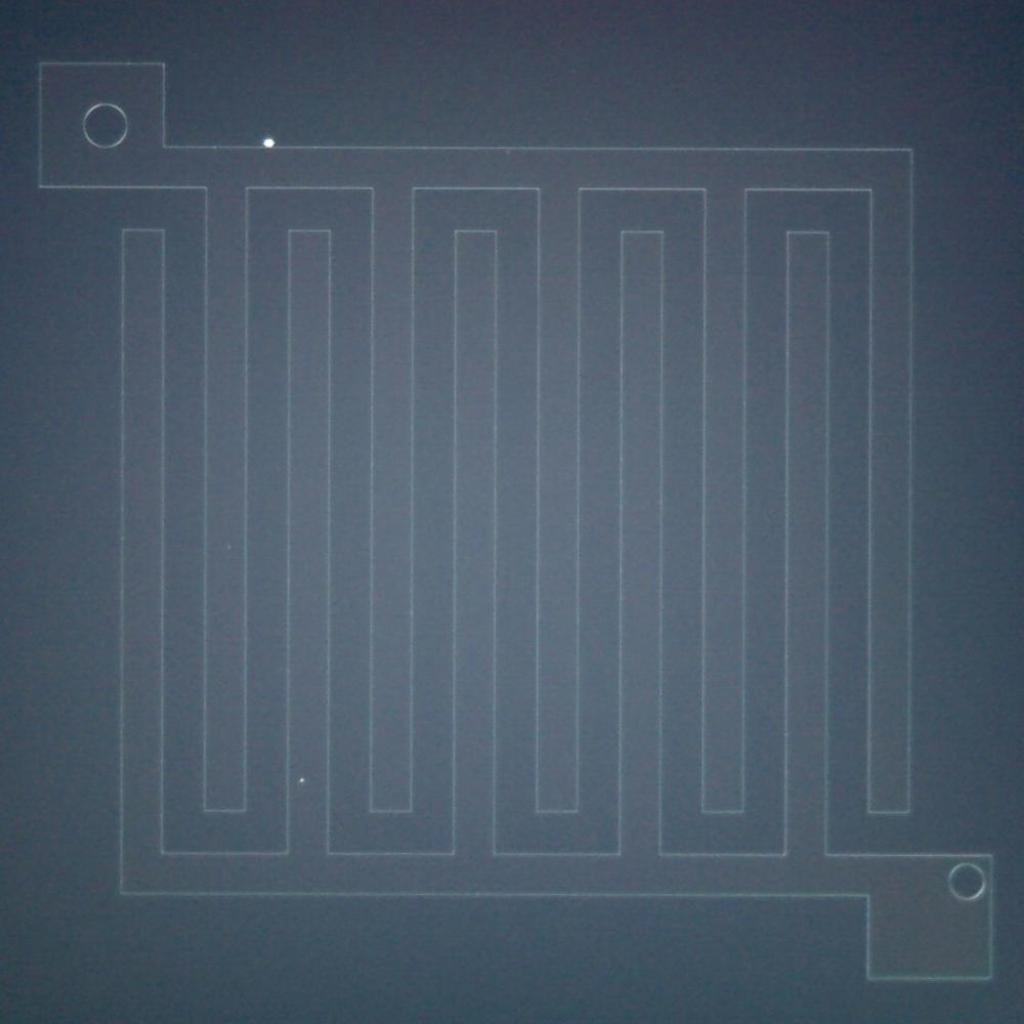dot: (264, 137, 275, 148), (300, 778, 304, 782)
